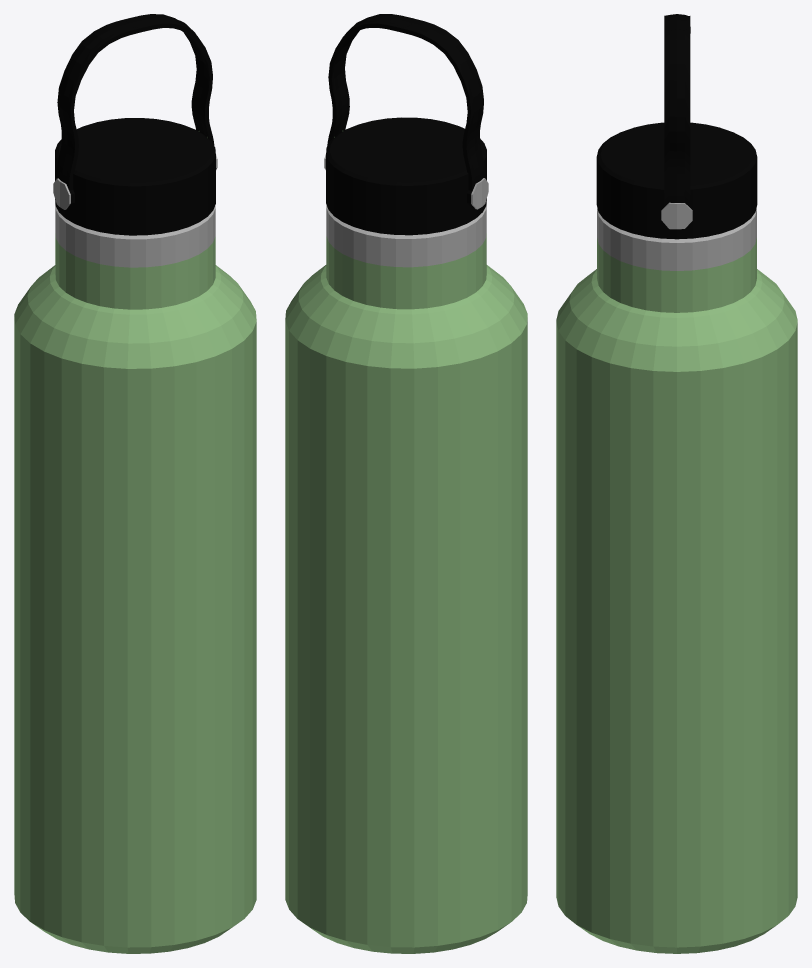
File: oceanbottle.glb
3 views of the same model, side by side, from view 1: azimuth 30°, elevation 25°; view 2: azimuth 150°, elevation 25°; view 3: azimuth 270°, elevation 25° (orthographic).
Visible parts, largest first — view 1: Cylinder; view 2: Cylinder; view 3: Cylinder.
Part boxes in pixels (<box>): Cylinder: <box>14,14,256,953</box>; Cylinder: <box>285,14,527,953</box>; Cylinder: <box>556,14,797,953</box>.
Size of the model in its own units: 1.47 by 5.93 by 1.47.
